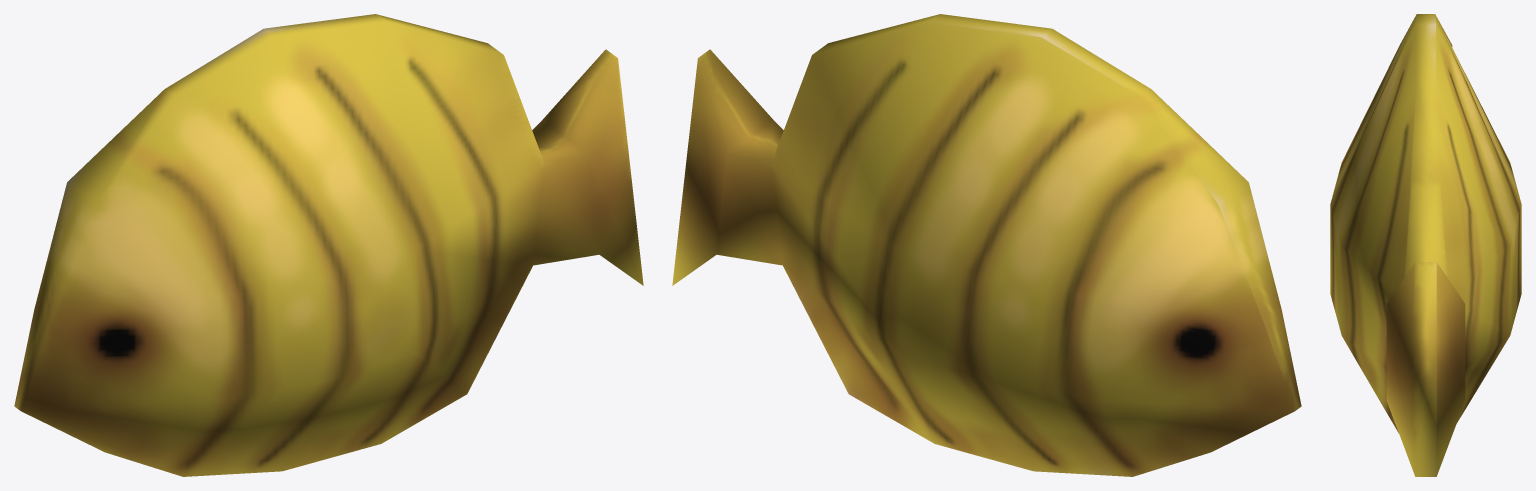
Rendered from fish_yellow.fbx.
3 renders of one model, left to right at view 1: azimuth 30°, elevation 25°; view 2: azimuth 150°, elevation 25°; view 3: azimuth 270°, elevation 25°, orthographic. The views are drawn at different scales.
Parts seen in each view (by area): view 1: fish_yellow; view 2: fish_yellow; view 3: fish_yellow.
Part boxes in pixels (box(x1,y1,x2,y2)): fish_yellow: box(14, 14, 643, 476); fish_yellow: box(672, 14, 1301, 476); fish_yellow: box(1330, 14, 1521, 476).
Bounding box in the file's own units: 32.27 × 21.3 × 9.89.
